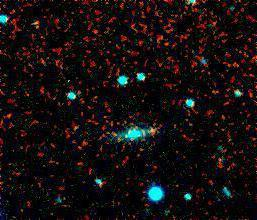star: (138, 115, 168, 145)
